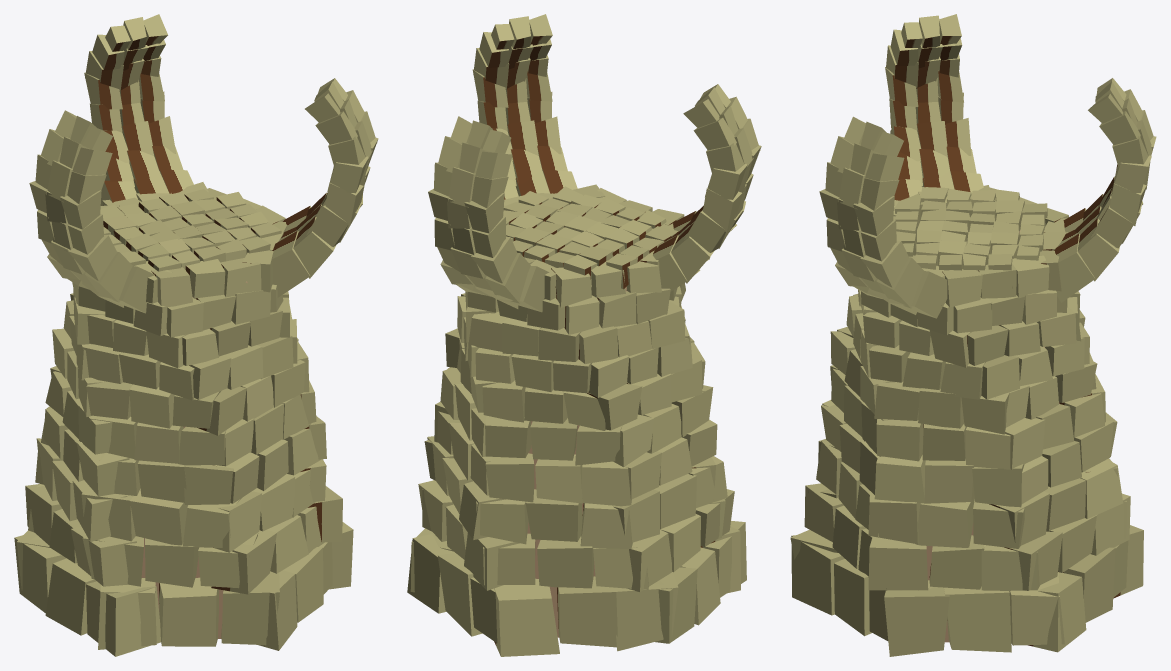
Rendered from Mage'sTower.fbx.
The picture shows the model from 3 angles, left to right: view 1: azimuth 30°, elevation 25°; view 2: azimuth 150°, elevation 25°; view 3: azimuth 270°, elevation 25°; orthographic projection.
Parts seen in each view (by area): view 1: Building.004; view 2: Building.004; view 3: Building.004.
Boxes of the visible parts, x1=… form: Building.004: x1=14, y1=14, x2=378, y2=656; Building.004: x1=407, y1=14, x2=761, y2=656; Building.004: x1=790, y1=14, x2=1156, y2=656.
Size of the model in its own units: 1434 by 2300 by 1463.
